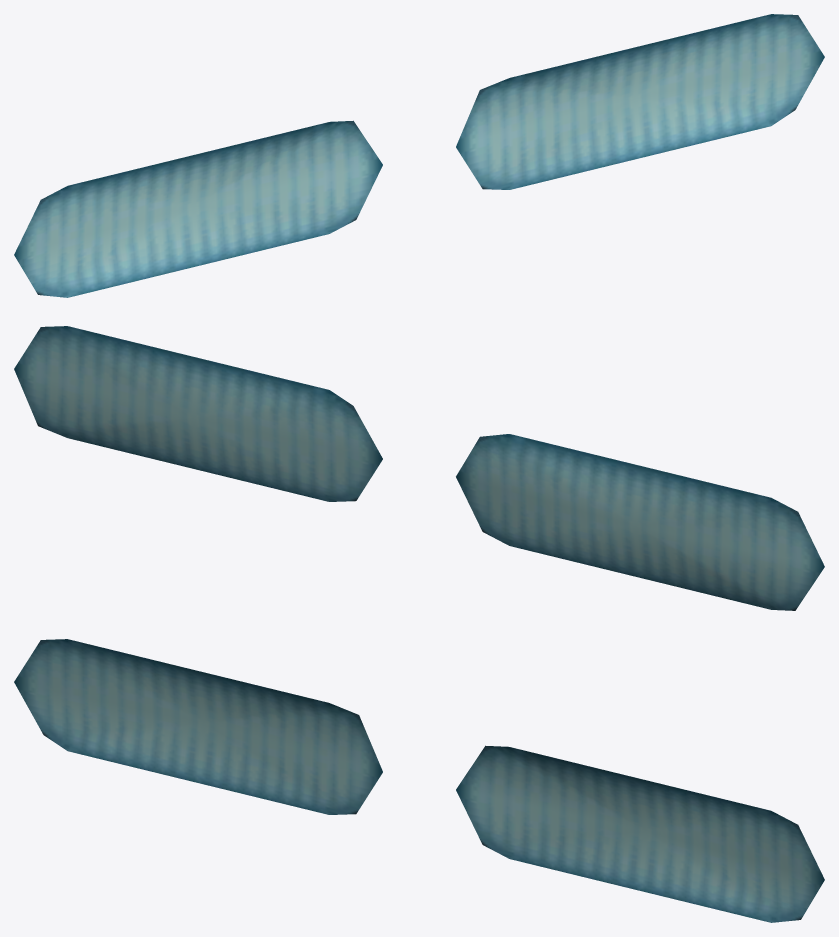
Rendered from lambda_engine_on_l1.fbx.
3 renders of one model, top to bottom at view 1: azimuth 30°, elevation 25°; view 2: azimuth 150°, elevation 25°; view 3: azimuth 330°, elevation 25°, orthographic.
Visible parts, largest first — view 1: mesh_node; view 2: mesh_node; view 3: mesh_node.
Part boxes in pixels (<box>): mesh_node: <box>14,14,824,297</box>; mesh_node: <box>14,326,824,610</box>; mesh_node: <box>14,639,824,922</box>.
Bounding box in the file's own units: 11.16 × 1.47 × 0.125.
